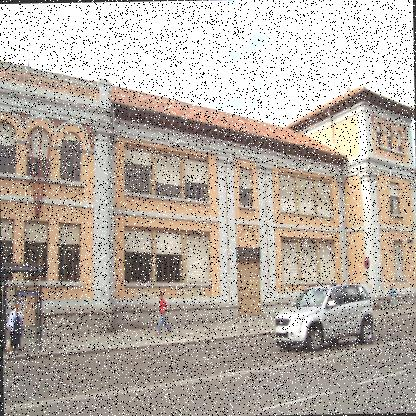Car: (275, 284, 374, 346)
